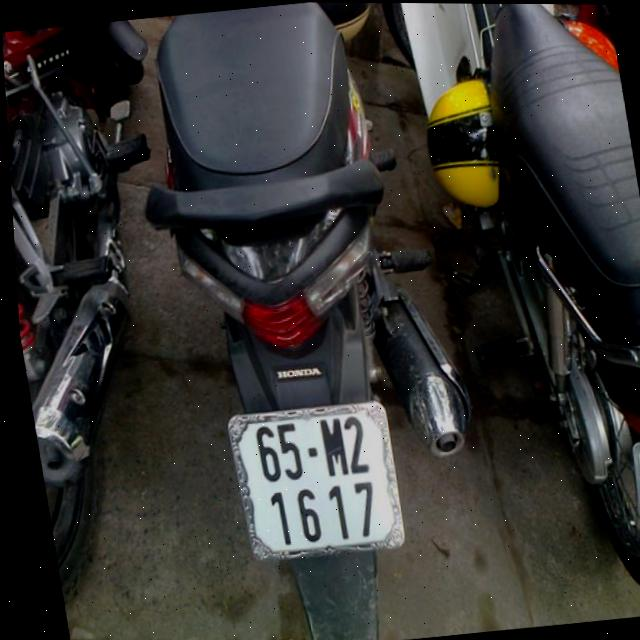motorcycle: (122, 1, 517, 640), (366, 3, 640, 635), (1, 17, 236, 613)
plate: (216, 393, 411, 570), (624, 433, 640, 568)
